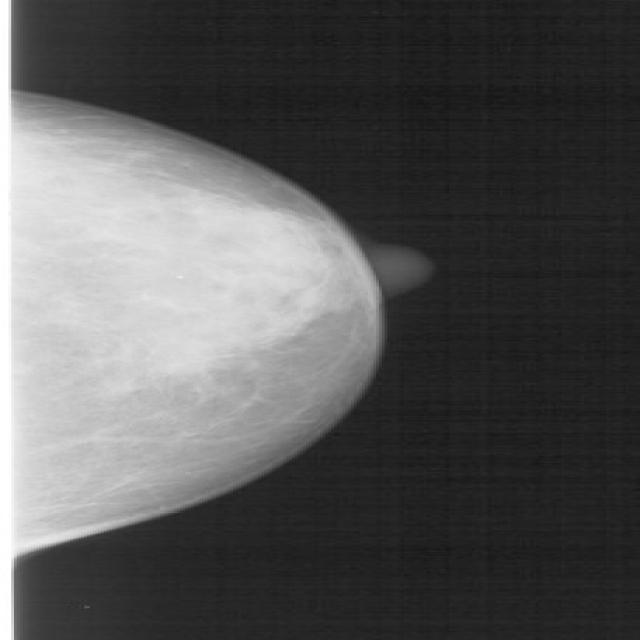tumour: (143, 336, 216, 376)
